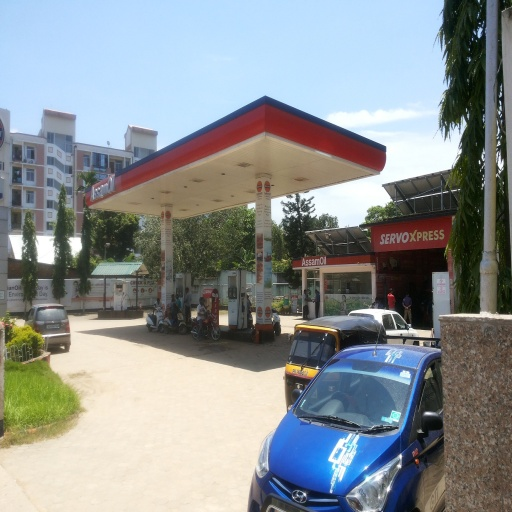roof: (82, 95, 385, 220)
